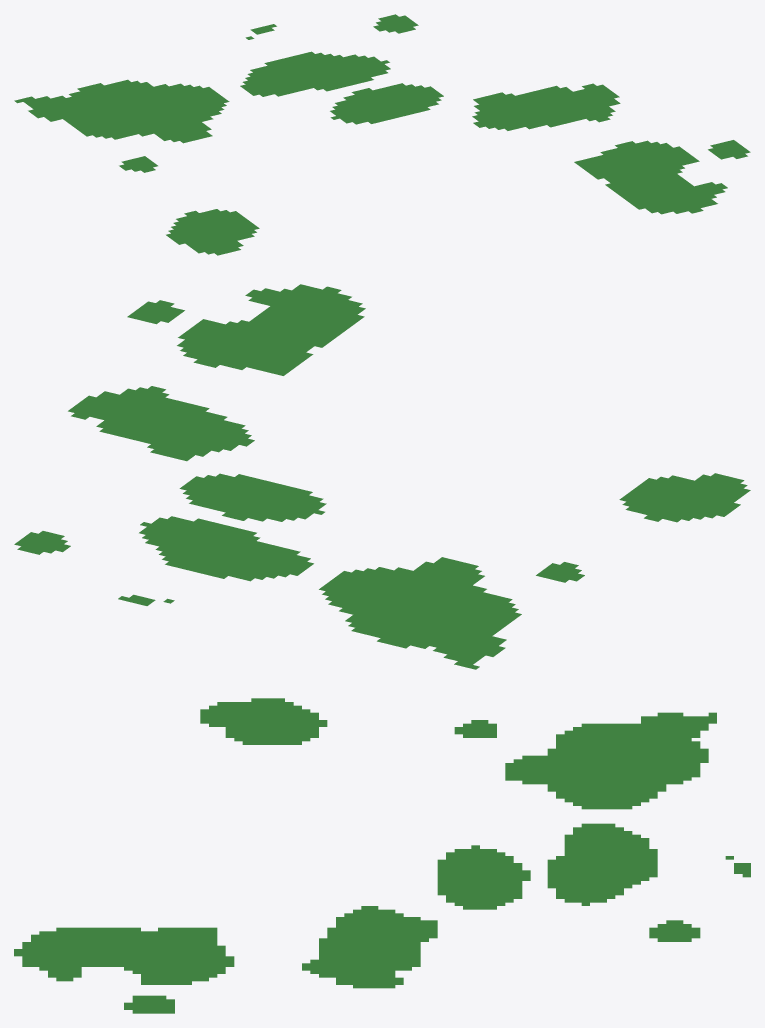
File: Isl-bot1-TreesArea.fbx
3 views of the same model, one above another, from view 1: azimuth 30°, elevation 25°; view 2: azimuth 150°, elevation 25°; view 3: azimuth 270°, elevation 25° (orthographic). The views are drawn at different scales.
Visible parts, largest first — view 1: Isl-bot1-TreesArea; view 2: Isl-bot1-TreesArea; view 3: Isl-bot1-TreesArea.
Part boxes in pixels (x1,y1,x2,y2): Isl-bot1-TreesArea: (14,14,750,255); Isl-bot1-TreesArea: (14,284,750,669); Isl-bot1-TreesArea: (14,698,750,1013).
Bounding box in the file's own units: 88 × 0 × 87.
